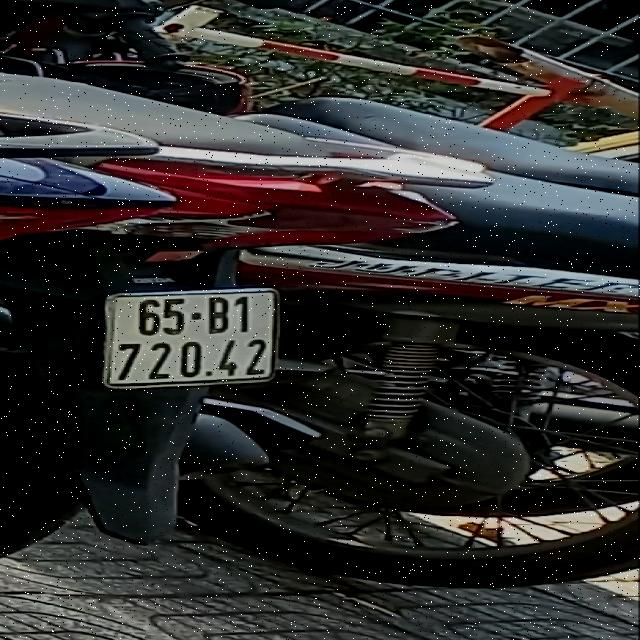0: (178, 341, 203, 379)
1: (234, 296, 255, 335)
2: (149, 342, 173, 379), (245, 340, 266, 376)
4: (219, 340, 241, 376)
5: (162, 298, 187, 335)
6: (136, 299, 162, 336)
7: (115, 342, 138, 381)
B: (206, 297, 232, 334)
